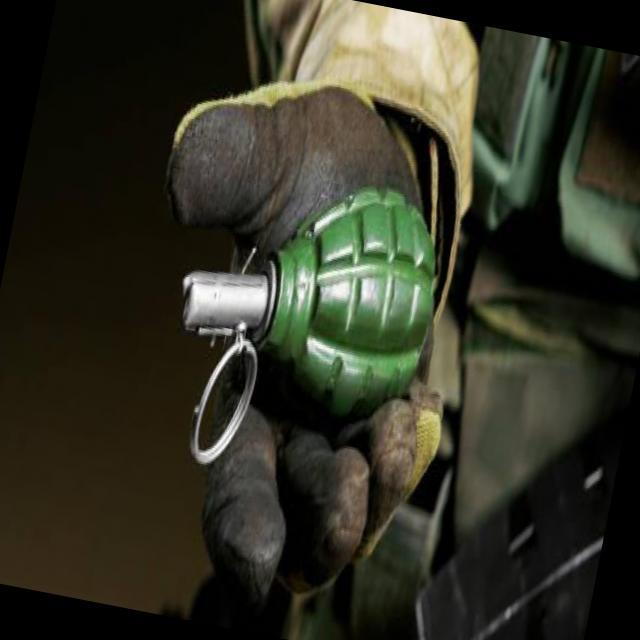grenade: (151, 144, 459, 507)
